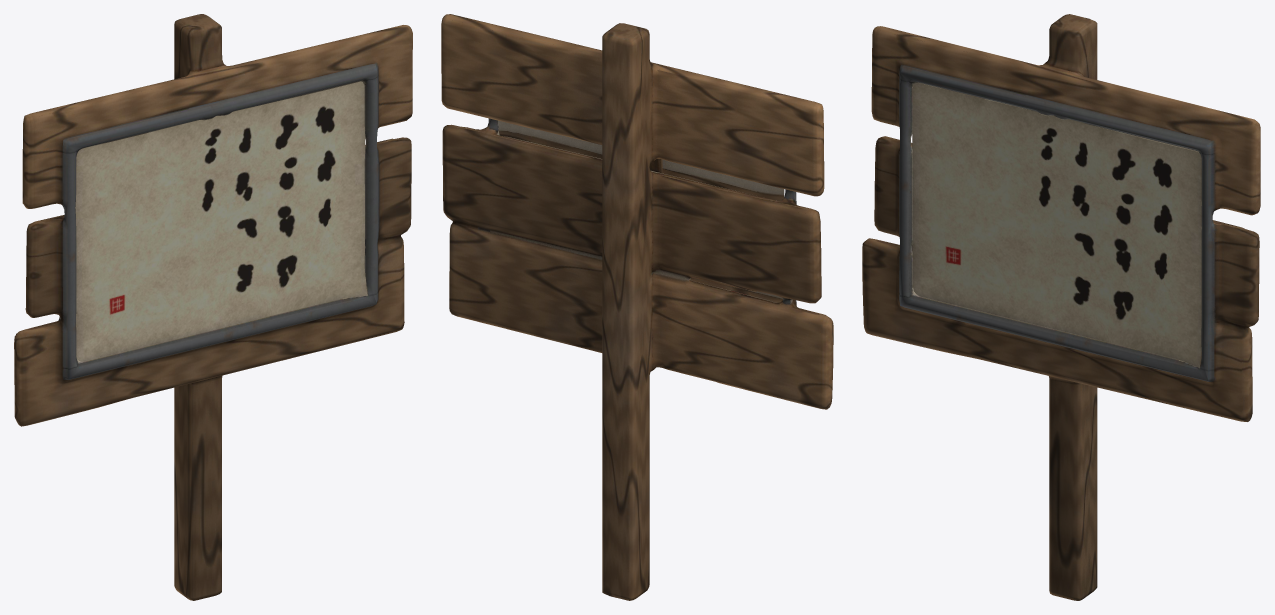
File: signpost_high.glb
3 views of the same model, side by side, from view 1: azimuth 30°, elevation 25°; view 2: azimuth 150°, elevation 25°; view 3: azimuth 330°, elevation 25° (orthographic).
Visible parts, largest first — view 1: signpost_notice_lod0_tri75; view 2: signpost_notice_lod0_tri75; view 3: signpost_notice_lod0_tri75.
Boxes of the visible parts, bbox=[...] form: signpost_notice_lod0_tri75: bbox=[14, 14, 412, 600]; signpost_notice_lod0_tri75: bbox=[441, 14, 833, 600]; signpost_notice_lod0_tri75: bbox=[862, 14, 1260, 600].
Bounding box in the file's own units: 1.17 × 1.62 × 0.162.
1 material, 1 textured.
